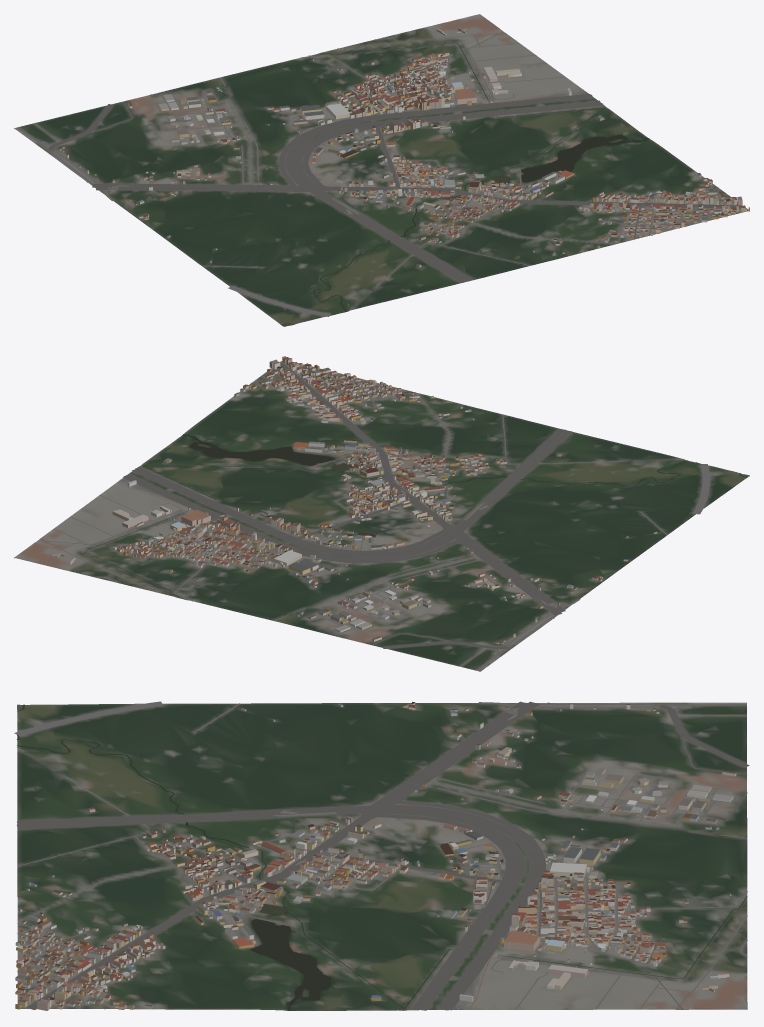
3 renders of one model, top to bottom at view 1: azimuth 30°, elevation 25°; view 2: azimuth 150°, elevation 25°; view 3: azimuth 270°, elevation 25°, orthographic. The views are drawn at different scales.
Visible parts, largest first — view 1: ground, buildings, roads, water; view 2: ground, buildings, roads, water; view 3: ground, buildings, roads, water.
Boxes of the visible parts, x1,y1,x2,y2 form: ground: (14, 14, 748, 326); buildings: (59, 28, 749, 267); roads: (16, 33, 741, 316); water: (282, 31, 649, 325); ground: (14, 360, 749, 671); buildings: (52, 356, 657, 643); roads: (40, 362, 710, 671); water: (38, 434, 747, 599); ground: (17, 702, 747, 1010); buildings: (15, 702, 736, 1010); roads: (14, 701, 749, 1010); water: (17, 704, 747, 1010).
Bounding box in the file's own units: 1416 × 35.26 × 1414.
